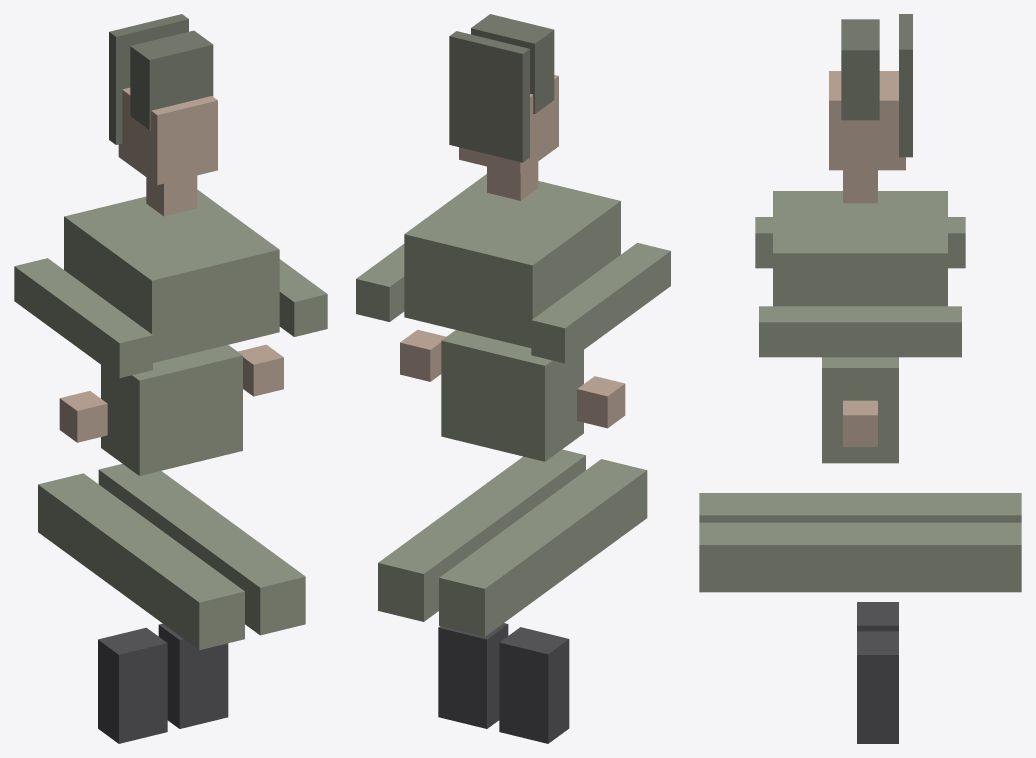
The model's file is crew_nava.glb.
3 renders of one model, left to right at view 1: azimuth 30°, elevation 25°; view 2: azimuth 150°, elevation 25°; view 3: azimuth 270°, elevation 25°, orthographic.
Parts seen in each view (by area): view 1: torso, leg_-1, pelvis, leg_1, arm_l, boot_-1, head, cap_top, boot_1, cap_brim, arm_r_mesh, hand_l (+2 smaller); view 2: torso, leg_-1, pelvis, leg_1, cap_brim, arm_l, boot_-1, boot_1, cap_top, arm_r_mesh, head, hand_l (+2 smaller); view 3: leg_1, torso, arm_r_mesh, leg_-1, pelvis, head, boot_1, cap_top, cap_brim, arm_l, hand_r, boot_-1 (+1 smaller).
Boxes of the visible parts, x1=… form: torso: x1=64, y1=189, x2=279, y2=362; leg_-1: x1=38, y1=473, x2=244, y2=650; pelvis: x1=101, y1=345, x2=242, y2=475; leg_1: x1=98, y1=464, x2=305, y2=635; arm_l: x1=14, y1=258, x2=152, y2=378; boot_-1: x1=98, y1=627, x2=167, y2=743; head: x1=118, y1=87, x2=217, y2=184; cap_top: x1=130, y1=30, x2=213, y2=129; boot_1: x1=158, y1=623, x2=228, y2=728; cap_brim: x1=109, y1=14, x2=188, y2=144; arm_r_mesh: x1=279, y1=259, x2=327, y2=336; hand_l: x1=59, y1=391, x2=107, y2=442; torso: x1=404, y1=174, x2=620, y2=347; leg_-1: x1=439, y1=459, x2=647, y2=636; pelvis: x1=441, y1=330, x2=583, y2=461; leg_1: x1=378, y1=449, x2=585, y2=621; cap_brim: x1=449, y1=31, x2=529, y2=162; arm_l: x1=531, y1=243, x2=670, y2=363; boot_-1: x1=499, y1=627, x2=569, y2=743; boot_1: x1=438, y1=623, x2=508, y2=728; cap_top: x1=471, y1=14, x2=554, y2=113; arm_r_mesh: x1=356, y1=244, x2=404, y2=321; head: x1=459, y1=75, x2=558, y2=174; hand_l: x1=577, y1=376, x2=625, y2=428; leg_1: x1=699, y1=522, x2=1021, y2=592; torso: x1=773, y1=191, x2=947, y2=306; arm_r_mesh: x1=759, y1=306, x2=961, y2=357; leg_-1: x1=699, y1=493, x2=1021, y2=522; pelvis: x1=822, y1=357, x2=898, y2=463; head: x1=829, y1=71, x2=905, y2=170; boot_1: x1=857, y1=631, x2=898, y2=743; cap_top: x1=841, y1=19, x2=879, y2=120; cap_brim: x1=899, y1=14, x2=912, y2=157; arm_l: x1=755, y1=217, x2=965, y2=268; hand_r: x1=843, y1=400, x2=877, y2=446; boot_-1: x1=857, y1=602, x2=898, y2=631.
Size of the model in its own units: 0.69 by 2.16 by 0.92.
